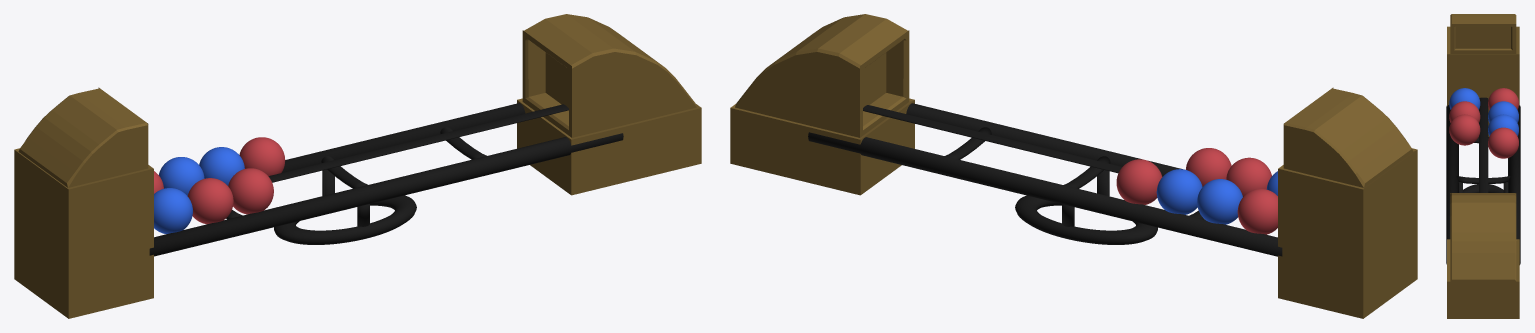
File: bowlingball_outramp.fbx
The picture shows the model from 3 angles, left to right: view 1: azimuth 30°, elevation 25°; view 2: azimuth 150°, elevation 25°; view 3: azimuth 270°, elevation 25°; orthographic projection. The views are drawn at different scales.
Parts seen in each view (by area): view 1: Cube.001, Cube, Cylinder, Cylinder.001, Torus, Cylinder.002, Sphere.001, Sphere.002, Sphere, Sphere.006, Sphere.004, Sphere.003; view 2: Cube.001, Cube, Cylinder.001, Cylinder, Torus, Cylinder.002, Sphere.003, Sphere.004, Sphere.006, Sphere.005, Sphere.001, Sphere.002; view 3: Cube, Cube.001, Cylinder, Cylinder.002, Cylinder.001, Sphere.002, Sphere.006, Sphere.001, Sphere, Sphere.005, Sphere.003, Sphere.004 (+2 smaller).
Boxes of the visible parts, <box> form: Cube.001: <box>14,87,153,318</box>; Cube: <box>517,14,701,195</box>; Cylinder: <box>149,133,623,256</box>; Cylinder.001: <box>281,103,525,172</box>; Torus: <box>274,195,416,244</box>; Cylinder.002: <box>268,104,568,182</box>; Sphere.001: <box>187,178,233,224</box>; Sphere.002: <box>228,168,273,214</box>; Sphere: <box>154,188,192,233</box>; Sphere.006: <box>239,137,285,175</box>; Sphere.004: <box>159,157,204,195</box>; Sphere.003: <box>199,147,244,185</box>; Cube.001: <box>1278,87,1417,318</box>; Cube: <box>730,14,914,195</box>; Cylinder.001: <box>808,132,1282,256</box>; Cylinder: <box>906,103,1182,176</box>; Torus: <box>1015,195,1157,244</box>; Cylinder.002: <box>863,105,1243,196</box>; Sphere.003: <box>1156,169,1202,214</box>; Sphere.004: <box>1197,179,1242,224</box>; Sphere.006: <box>1116,159,1162,204</box>; Sphere.005: <box>1237,189,1277,234</box>; Sphere.001: <box>1226,157,1271,196</box>; Sphere.002: <box>1186,148,1231,186</box>; Cube: <box>1447,193,1519,318</box>; Cube.001: <box>1447,14,1519,136</box>; Cylinder: <box>1446,105,1458,264</box>; Cylinder.002: <box>1479,97,1488,192</box>; Cylinder.001: <box>1508,105,1520,264</box>; Sphere.002: <box>1449,114,1480,145</box>; Sphere.006: <box>1488,127,1518,158</box>; Sphere.001: <box>1449,101,1480,122</box>; Sphere: <box>1449,88,1480,109</box>; Sphere.005: <box>1488,88,1518,109</box>; Sphere.003: <box>1488,114,1518,136</box>; Sphere.004: <box>1488,101,1518,122</box>.
Bounding box in the file's own units: 1477 × 388 × 225.
